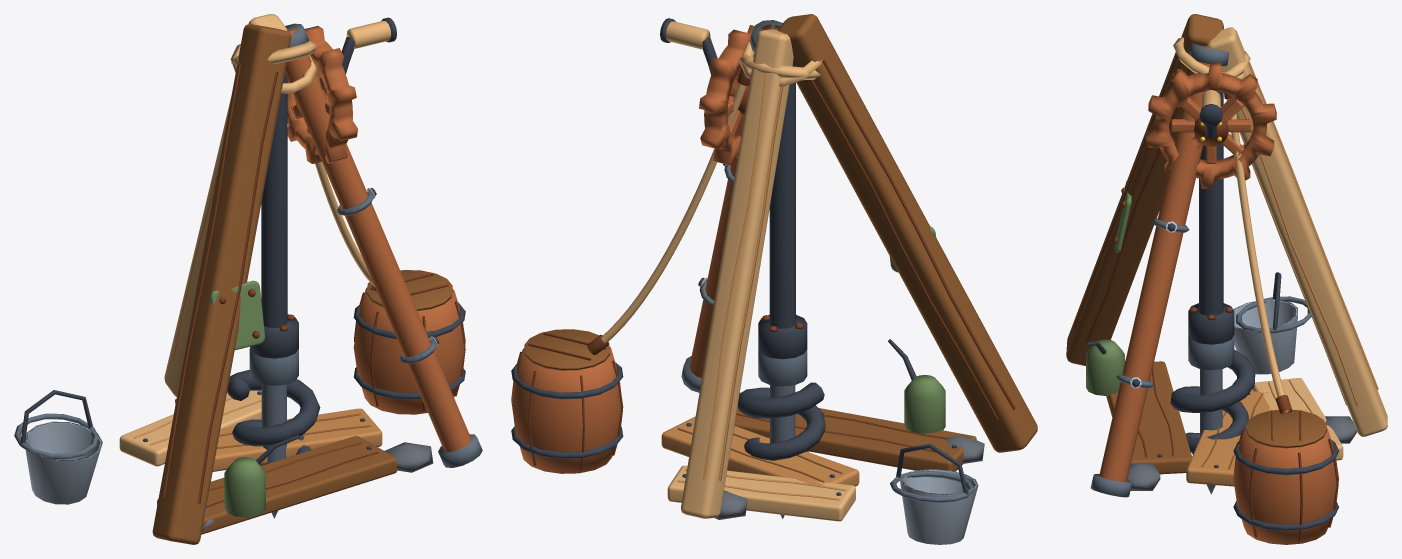
The model's file is IceDrill_T1.fbx.
3 renders of one model, left to right at view 1: azimuth 30°, elevation 25°; view 2: azimuth 150°, elevation 25°; view 3: azimuth 270°, elevation 25°, orthographic. The views are drawn at different scales.
Visible parts, largest first — view 1: IceDrillT1Legs, IceDrillT1Junk, IceDrillT1Planks, IceDrillT1BitA, IceDrillT1Wheel; view 2: IceDrillT1Legs, IceDrillT1Junk, IceDrillT1Planks, IceDrillT1BitA, IceDrillT1Wheel; view 3: IceDrillT1Legs, IceDrillT1Junk, IceDrillT1Planks, IceDrillT1Wheel, IceDrillT1BitA.
Part boxes in pixels (<box>): IceDrillT1Legs: <box>152,14,482,544</box>; IceDrillT1Junk: <box>14,162,465,517</box>; IceDrillT1Planks: <box>119,390,433,534</box>; IceDrillT1BitA: <box>227,348,320,518</box>; IceDrillT1Wheel: <box>287,17,396,163</box>; IceDrillT1Legs: <box>681,14,1037,518</box>; IceDrillT1Junk: <box>511,68,978,544</box>; IceDrillT1Planks: <box>661,392,984,521</box>; IceDrillT1BitA: <box>737,349,825,518</box>; IceDrillT1Wheel: <box>660,18,754,166</box>; IceDrillT1Legs: <box>1066,14,1387,497</box>; IceDrillT1Junk: <box>1086,93,1338,544</box>; IceDrillT1Planks: <box>1106,361,1356,490</box>; IceDrillT1Wheel: <box>1146,62,1276,189</box>; IceDrillT1BitA: <box>1170,335,1255,494</box>.
Size of the model in its own units: 183 by 198 by 122.
